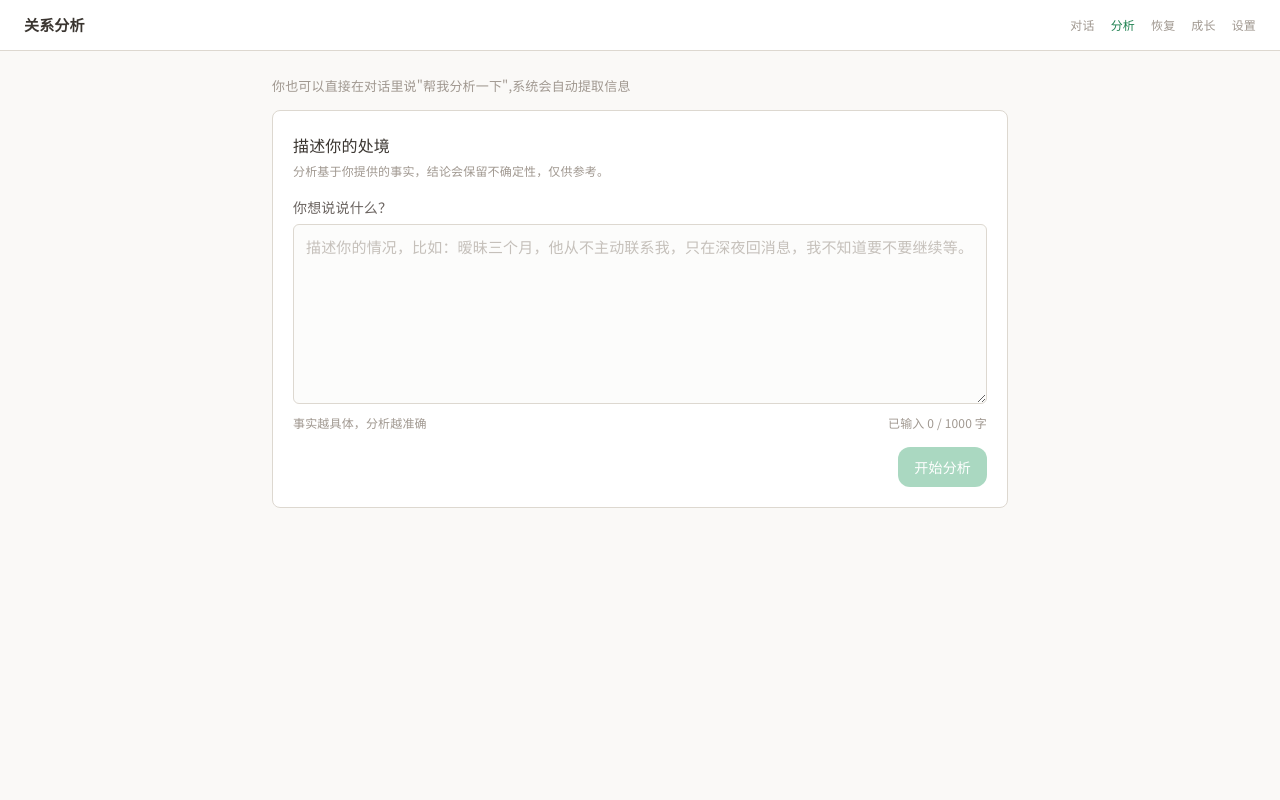
Scenario: <AnalysisPage /> › 请求失败时显示友好错误提示
Type "暧昧三个月，他从不主动联系我，只在深夜回消息，我不知道要不要继续等。" into the text box named "情况描述" at point(640, 314), box [293,224,987,404]
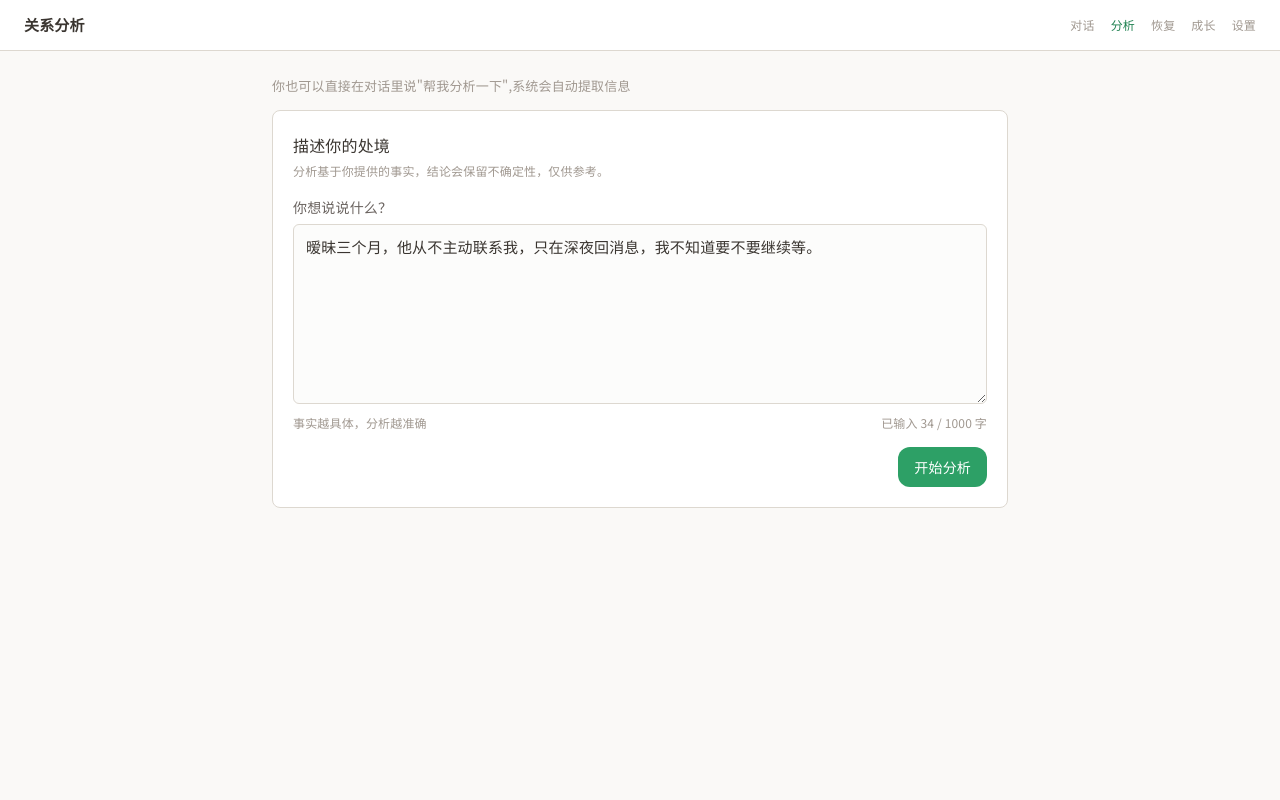
Click the button "开始分析" at point(943, 467), box [898,446,987,487]
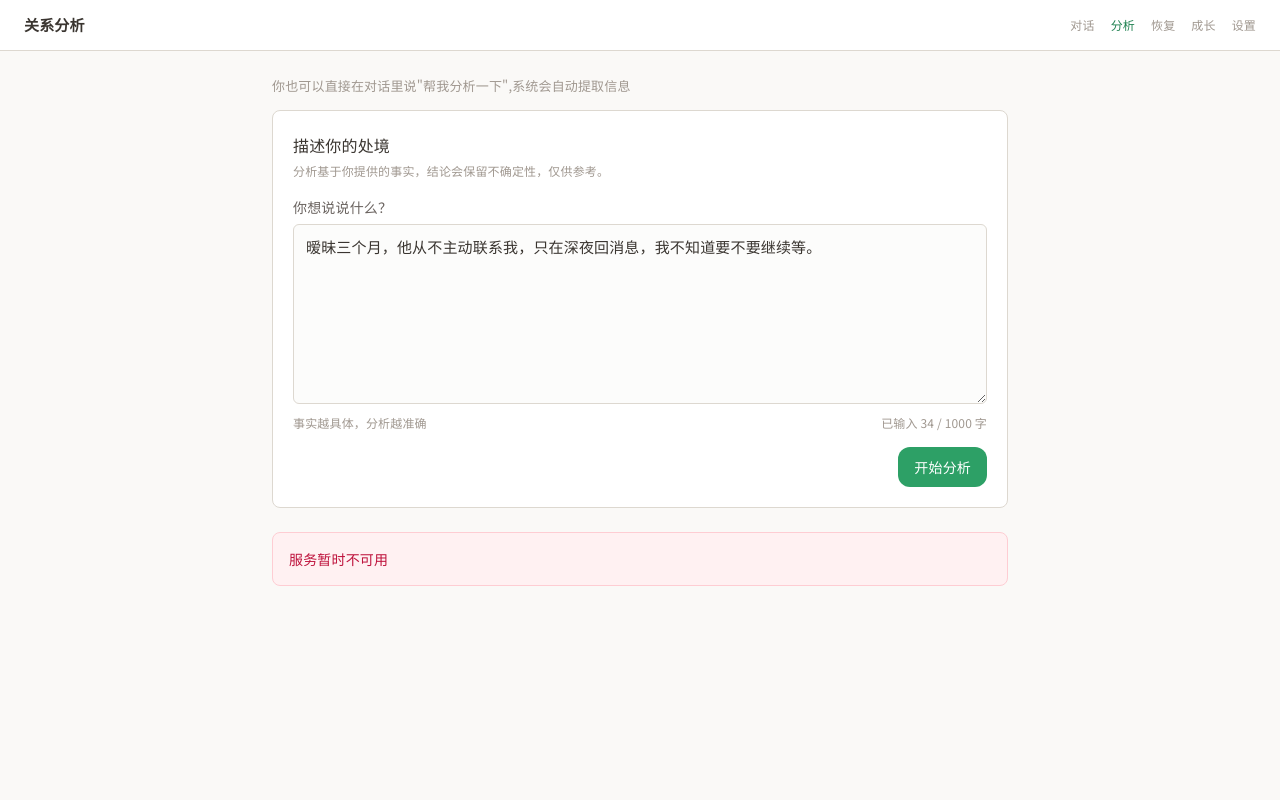
Now the text "服务暂时不可用" is shown, box [272,532,1008,586]
